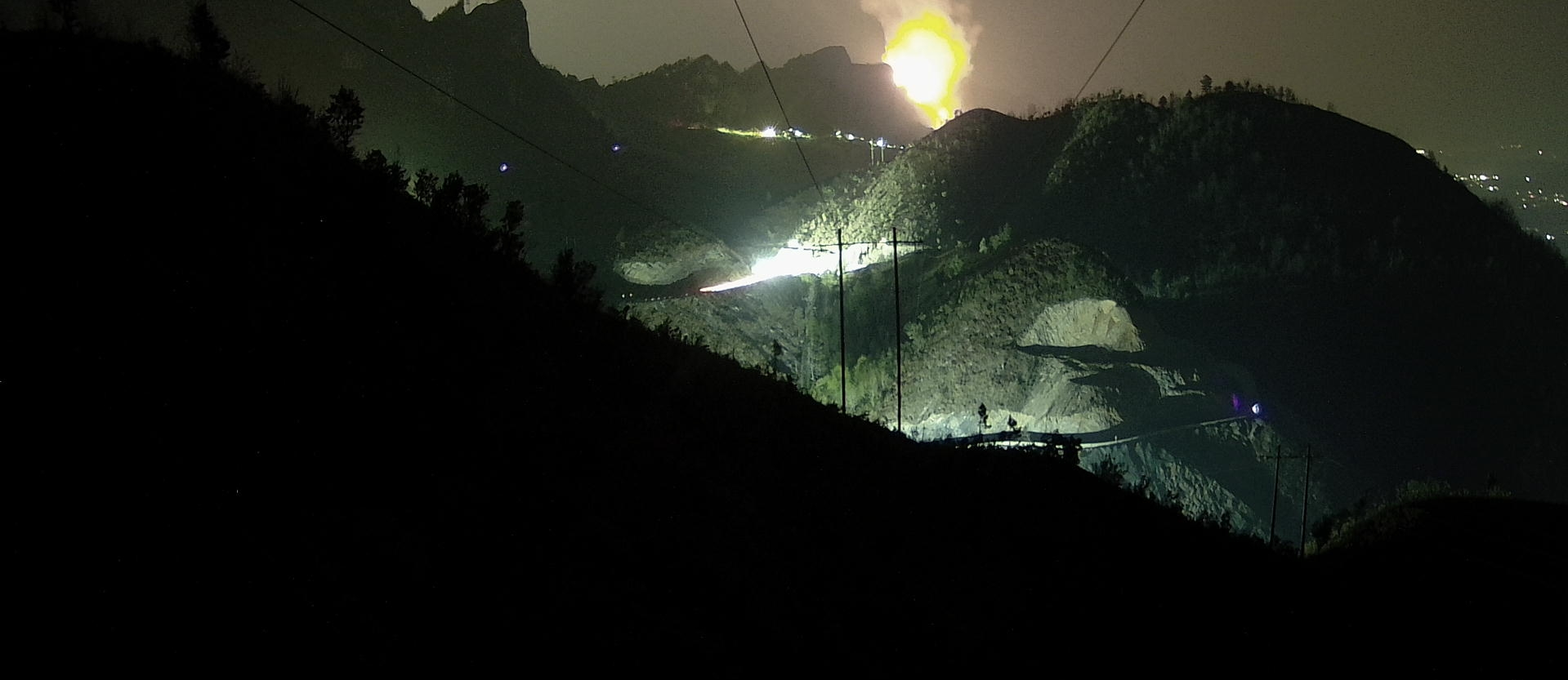山火: (881, 11, 965, 128)
烟雾: (860, 0, 984, 130)
